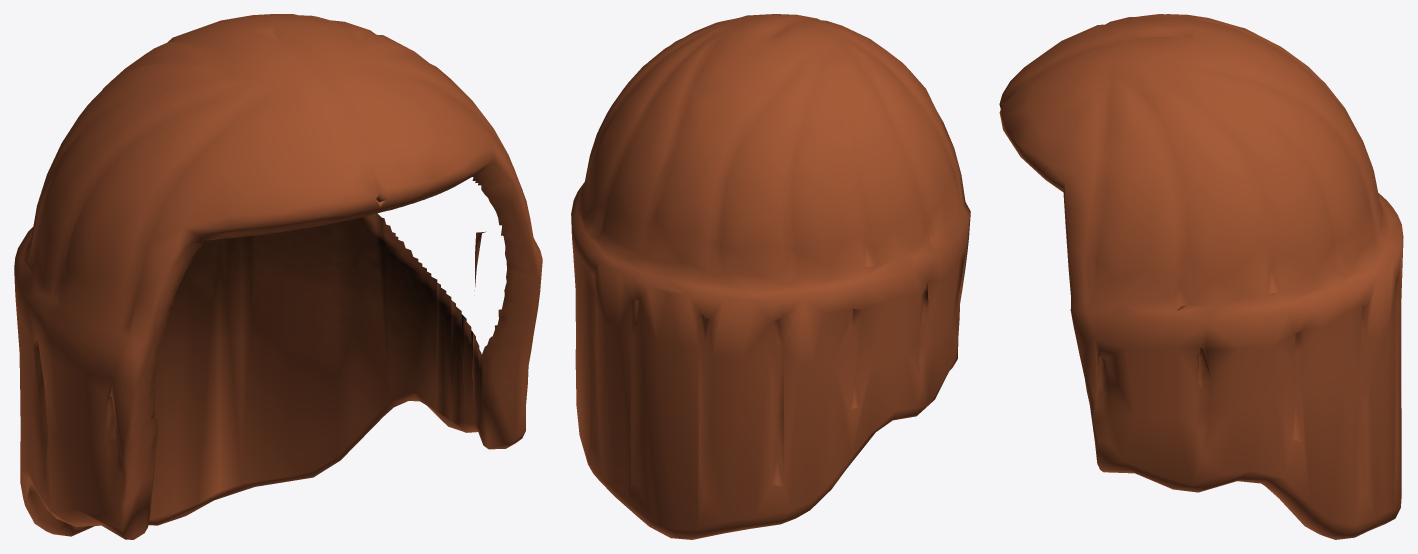
File: hair_long.glb
3 views of the same model, side by side, from view 1: azimuth 30°, elevation 25°; view 2: azimuth 150°, elevation 25°; view 3: azimuth 270°, elevation 25° (orthographic). The views are drawn at different scales.
Parts seen in each view (by area): view 1: hair_long; view 2: hair_long; view 3: hair_long.
Boxes of the visible parts, left/top/right/bottom form: hair_long: left=14, top=14, right=542, bottom=539; hair_long: left=571, top=14, right=970, bottom=539; hair_long: left=999, top=14, right=1403, bottom=539.
Size of the model in its own units: 0.6288 by 0.7632 by 0.5762.
1 material, 1 textured.
